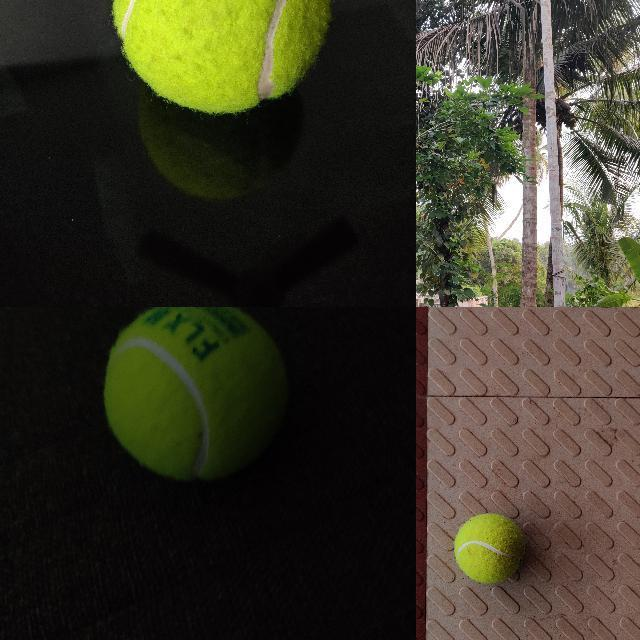tennis-ball: (102, 307, 290, 481), (109, 0, 331, 114), (454, 513, 525, 583)
